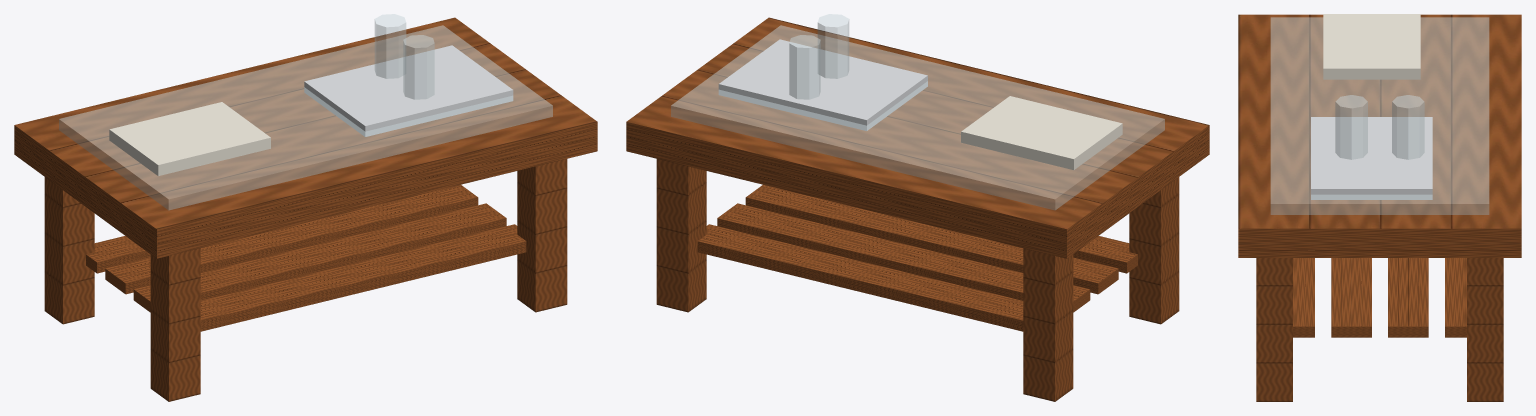
File: cruise-ship-deck-and-lounge-cruise-ship-deck-and-loung-56e41f0b__38453.glb
The picture shows the model from 3 angles, left to right: view 1: azimuth 30°, elevation 25°; view 2: azimuth 150°, elevation 25°; view 3: azimuth 270°, elevation 25°; orthographic projection.
Parts seen in each view (by area): view 1: cruise-ship-deck-and-lounge-lounge-low-table; view 2: cruise-ship-deck-and-lounge-lounge-low-table; view 3: cruise-ship-deck-and-lounge-lounge-low-table.
Part boxes in pixels (x1,y1,x2,y2): cruise-ship-deck-and-lounge-lounge-low-table: (14, 14, 597, 401); cruise-ship-deck-and-lounge-lounge-low-table: (626, 14, 1209, 401); cruise-ship-deck-and-lounge-lounge-low-table: (1238, 14, 1521, 401).
Bounding box in the file's own units: 1.25 × 0.6849 × 0.7.
Materials: 4 (1 with a texture image).
